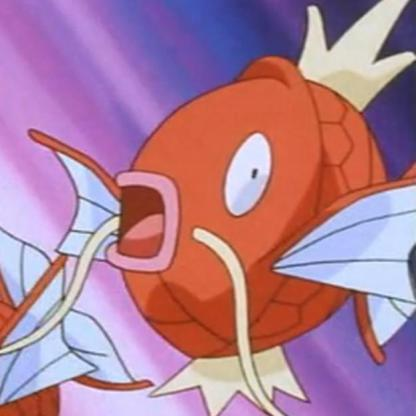Magikarp: (2, 1, 416, 416)
